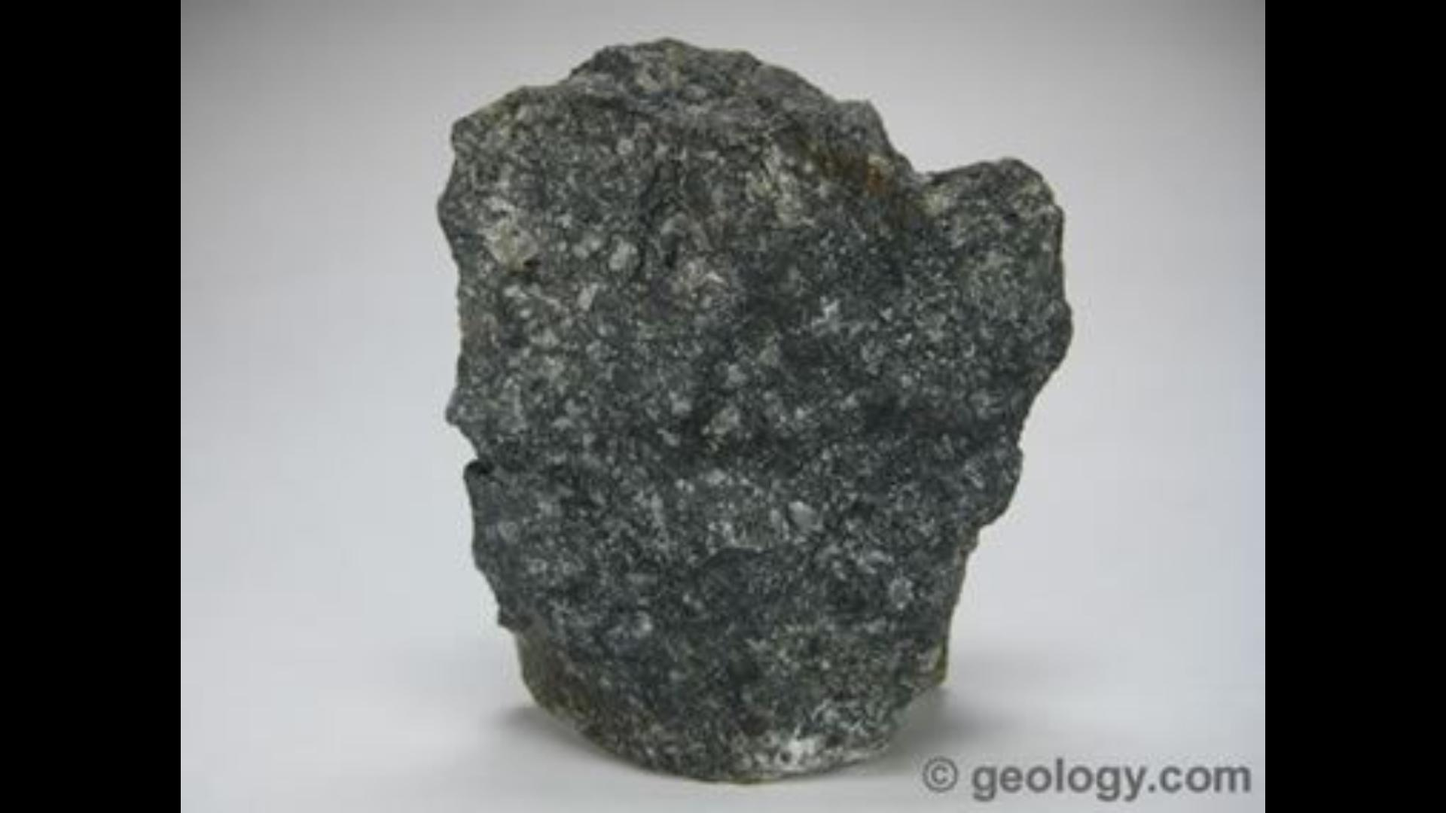rock: (438, 40, 1068, 779)
